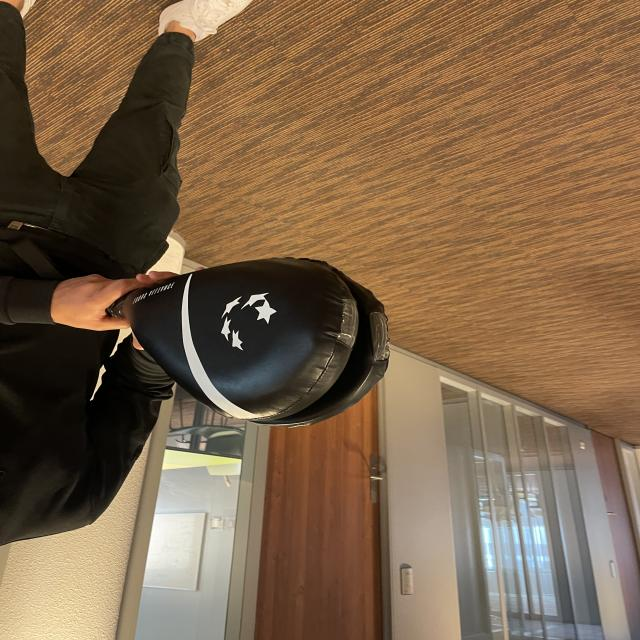paddle: (132, 255, 392, 427)
